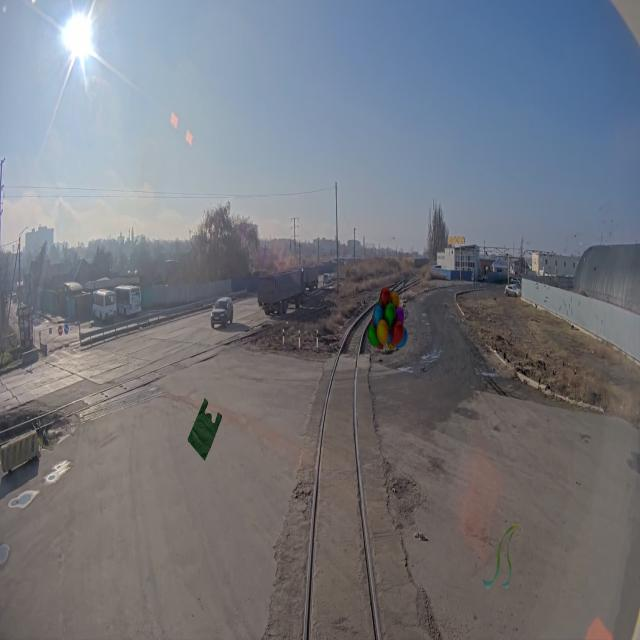balloon: (367, 286, 408, 350)
floating object: (482, 524, 524, 588)
plastic bag: (187, 398, 222, 462)
